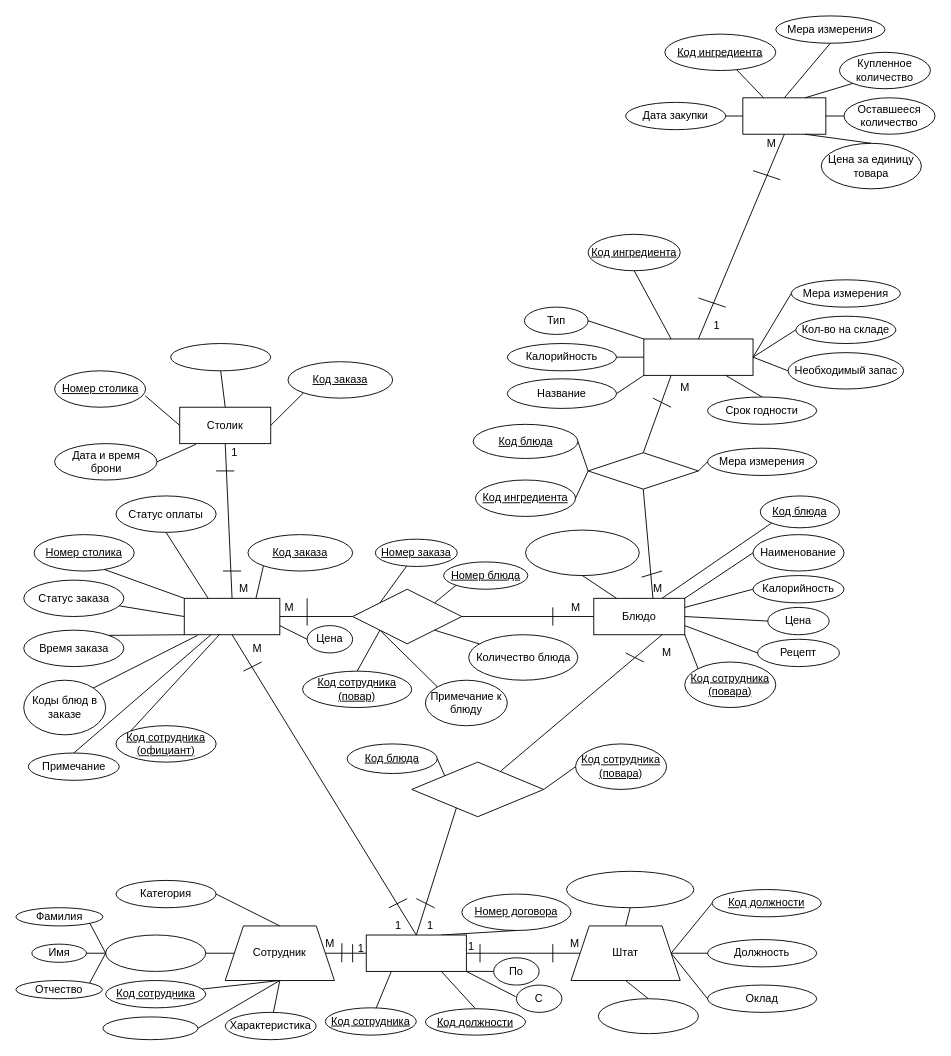
Image size: 951x1056. Some labels were removed from this diagram. The centre of each missing label's shape, as x and y in pixels:
"Должности" belongs at (x=415, y=952).
"Заказ" belongs at (x=231, y=616).
"Закупка" belongs at (x=784, y=115).
"Ингредиент" belongs at (x=698, y=356).
"Коды ингредиентов состава" belongs at (x=582, y=552).
"Навыки" belongs at (x=477, y=789).
"Паспорт" belongs at (x=150, y=1028).
"Свободные штатные единицы" belongs at (x=630, y=889).
"Состав блюда" belongs at (x=642, y=470).
"Состав заказа" belongs at (x=407, y=616).
"Статус" belongs at (x=220, y=357).
"ФИО" belongs at (x=155, y=952).
"Штатных единиц" belongs at (x=647, y=1016).
